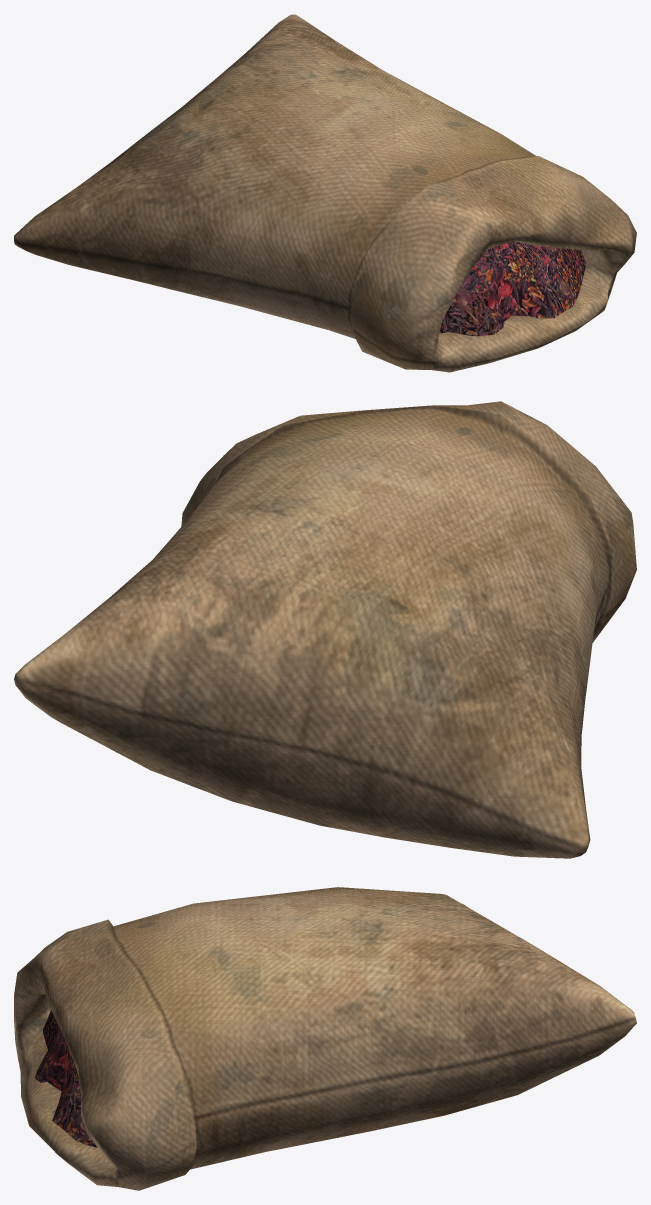
The model's file is village_bag_05.fbx.
3 renders of one model, top to bottom at view 1: azimuth 30°, elevation 25°; view 2: azimuth 150°, elevation 25°; view 3: azimuth 270°, elevation 25°, orthographic. The views are drawn at different scales.
Visible parts, largest first — view 1: village_bag_05; view 2: village_bag_05; view 3: village_bag_05.
Boxes of the visible parts, box(x1,y1,x2,y2) form: village_bag_05: box(14, 14, 636, 372); village_bag_05: box(14, 401, 636, 858); village_bag_05: box(14, 887, 636, 1190).
Bounding box in the file's own units: 88.44 × 33.91 × 98.13.
